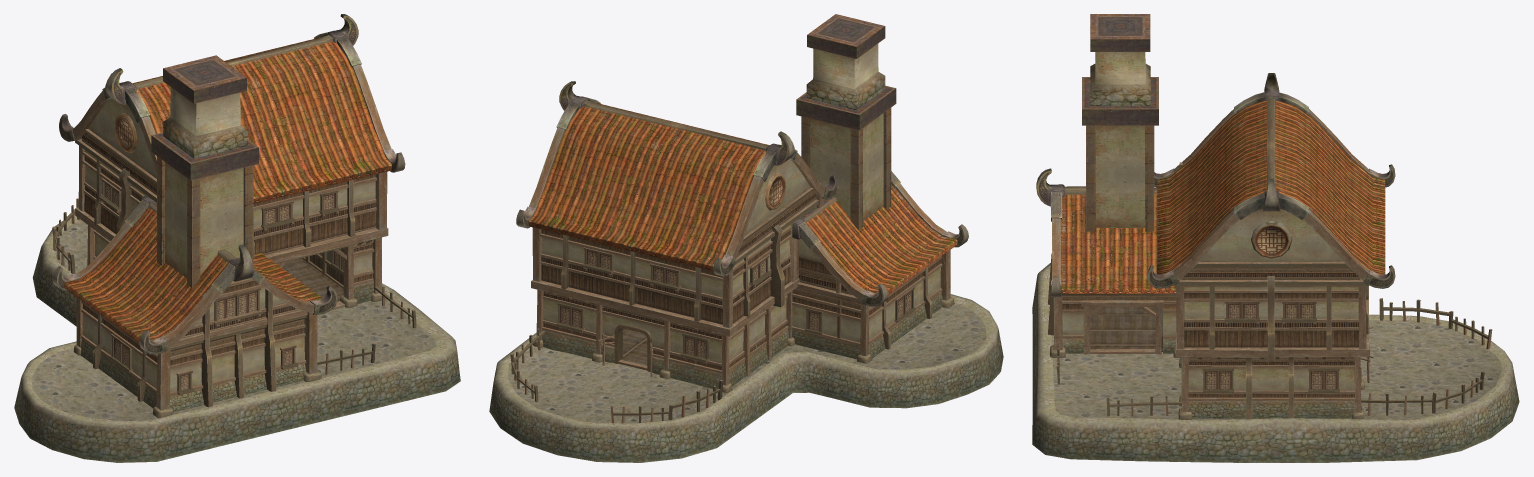
File: Building_002_03.fbx
The picture shows the model from 3 angles, left to right: view 1: azimuth 30°, elevation 25°; view 2: azimuth 150°, elevation 25°; view 3: azimuth 270°, elevation 25°; orthographic projection. The views are drawn at different scales.
Parts seen in each view (by area): view 1: Building_002_03, Building_002_03_in; view 2: Building_002_03, Building_002_03_in; view 3: Building_002_03, Building_002_03_in.
Boxes of the visible parts, box(x1,y1,x2,y2) form: Building_002_03: box(14, 14, 460, 462); Building_002_03_in: box(277, 247, 343, 301); Building_002_03: box(489, 14, 1003, 462); Building_002_03_in: box(621, 328, 647, 365); Building_002_03: box(1032, 14, 1519, 462); Building_002_03_in: box(1089, 307, 1162, 351).
Size of the model in its own units: 5030 by 4023 by 5454.
4 materials, 4 textured.
